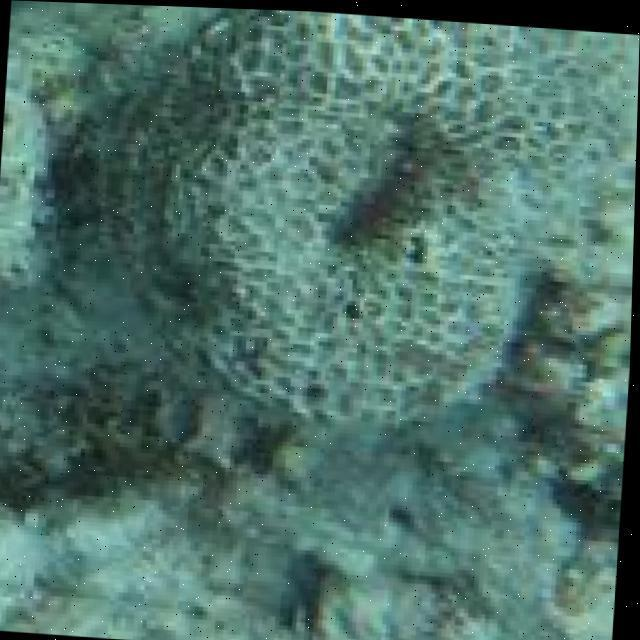Bleached Coral: (95, 0, 639, 431)
